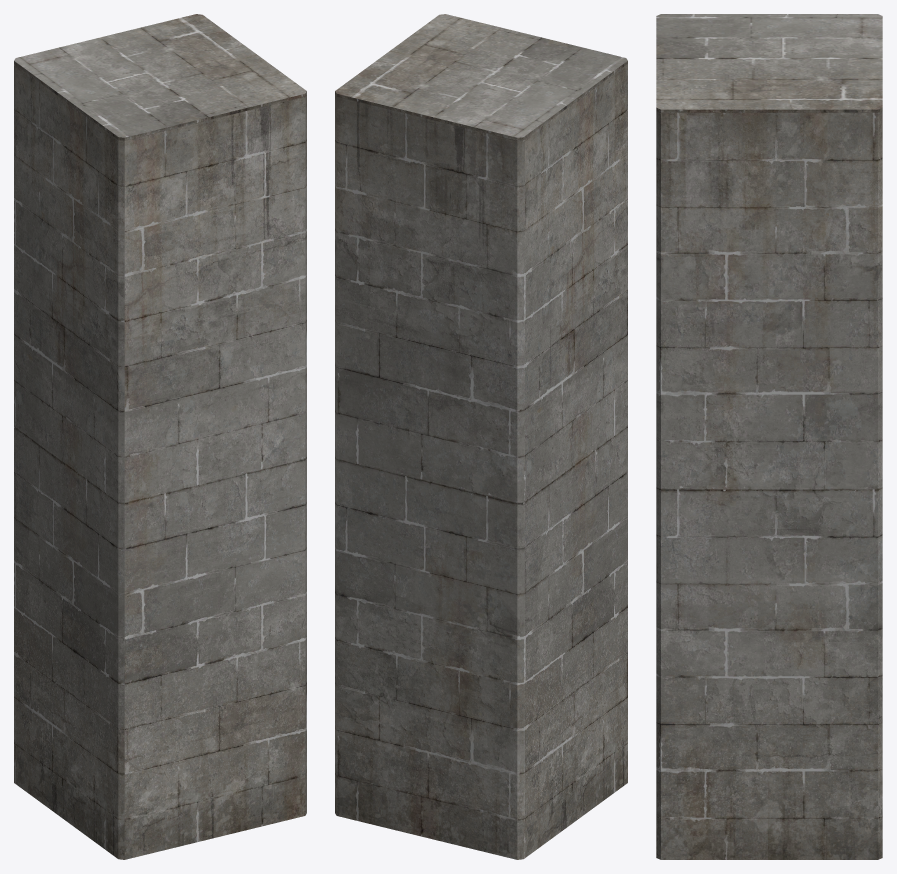
File: bg_lut_lucastle_churchtower01a_sm_ksh.FBX
The picture shows the model from 3 angles, left to right: view 1: azimuth 30°, elevation 25°; view 2: azimuth 150°, elevation 25°; view 3: azimuth 270°, elevation 25°; orthographic projection. The views are drawn at different scales.
Visible parts, largest first — view 1: bg_lut_lucastle_churchtower01a_sm_ksh; view 2: bg_lut_lucastle_churchtower01a_sm_ksh; view 3: bg_lut_lucastle_churchtower01a_sm_ksh.
Boxes of the visible parts, box(x1,y1,x2,y2) form: bg_lut_lucastle_churchtower01a_sm_ksh: box(14, 14, 306, 859); bg_lut_lucastle_churchtower01a_sm_ksh: box(335, 14, 627, 859); bg_lut_lucastle_churchtower01a_sm_ksh: box(656, 14, 882, 859).
Bounding box in the file's own units: 140 × 512 × 140.
